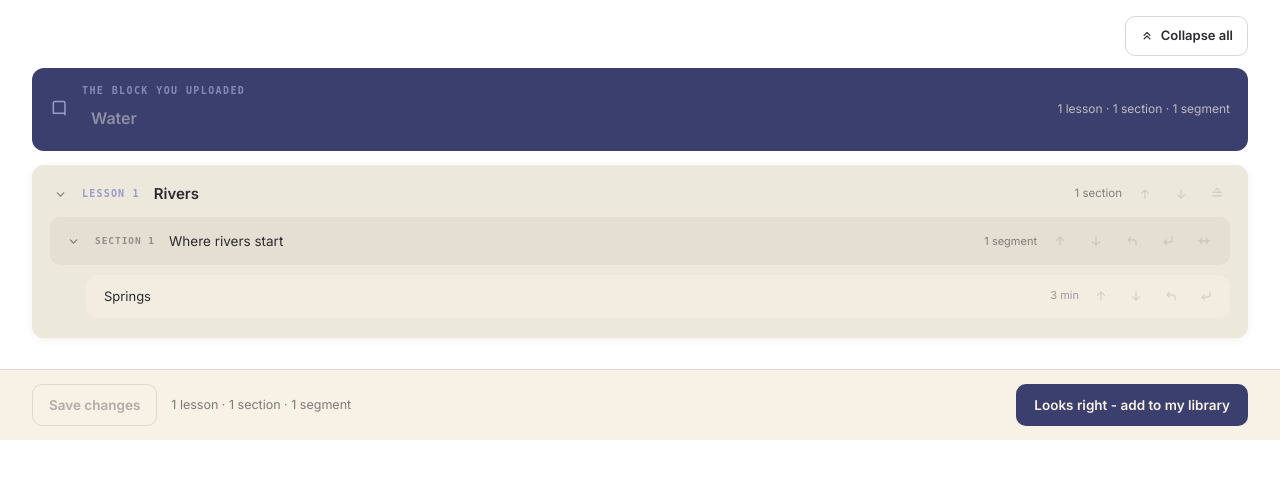
Test: undo › says so when it could not undo, and leaves the structure as it was
The width and height of the screenshot is (1280, 504).
Step 1. Replace the text in the field named "Lesson 1 title" with "Streams" → coordinates (607, 194), box [150,180,1064,207]
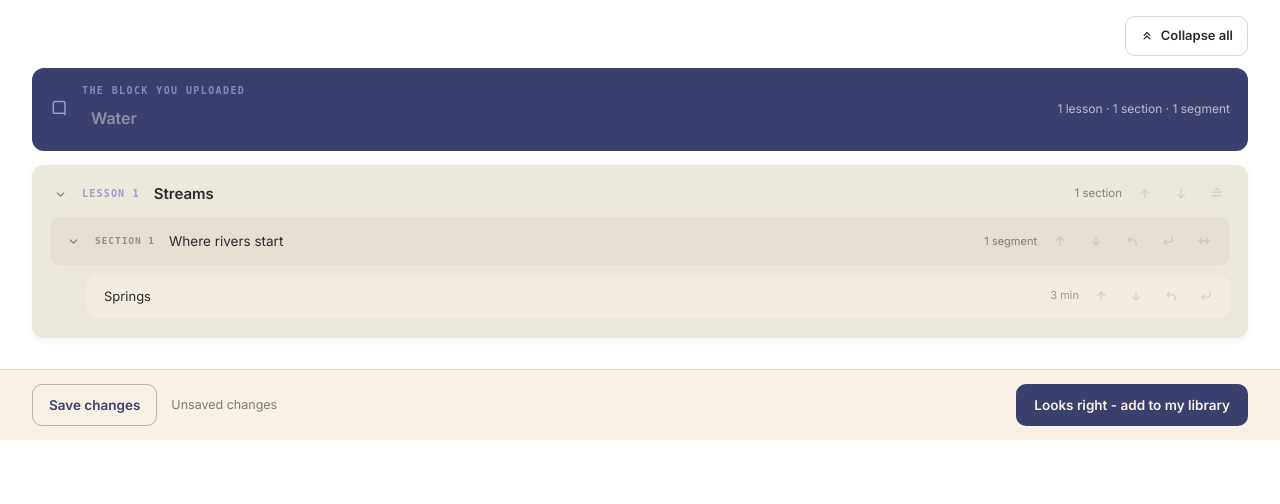
Step 2. Click the button "Save changes" → coordinates (95, 405), box [32,384,157,426]
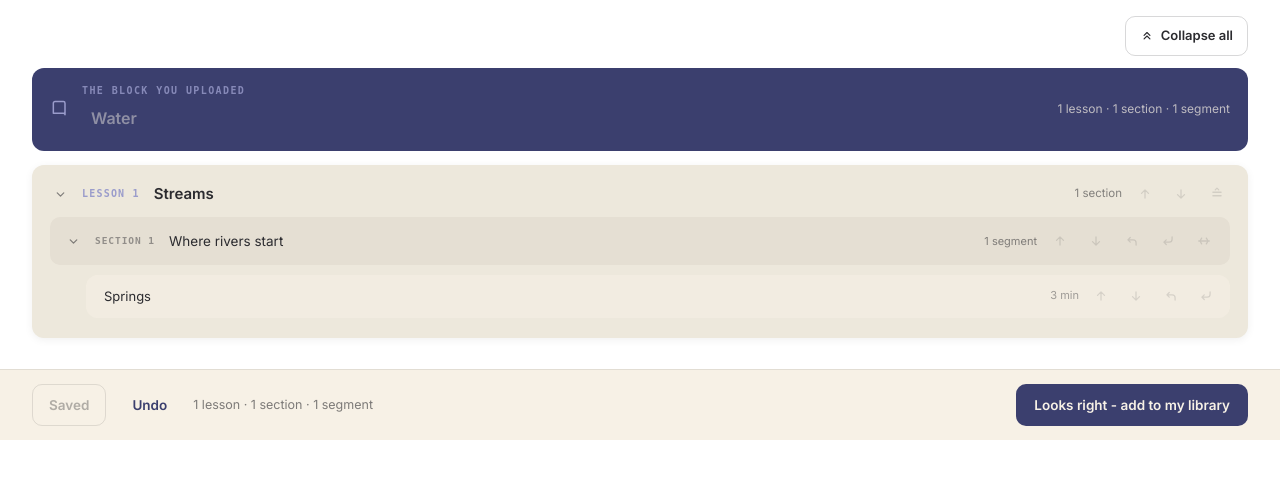
Result: the button "Saved" is shown at [32,384,106,426]
Step 3. Click the button "Undo" → coordinates (150, 405), box [120,384,179,426]
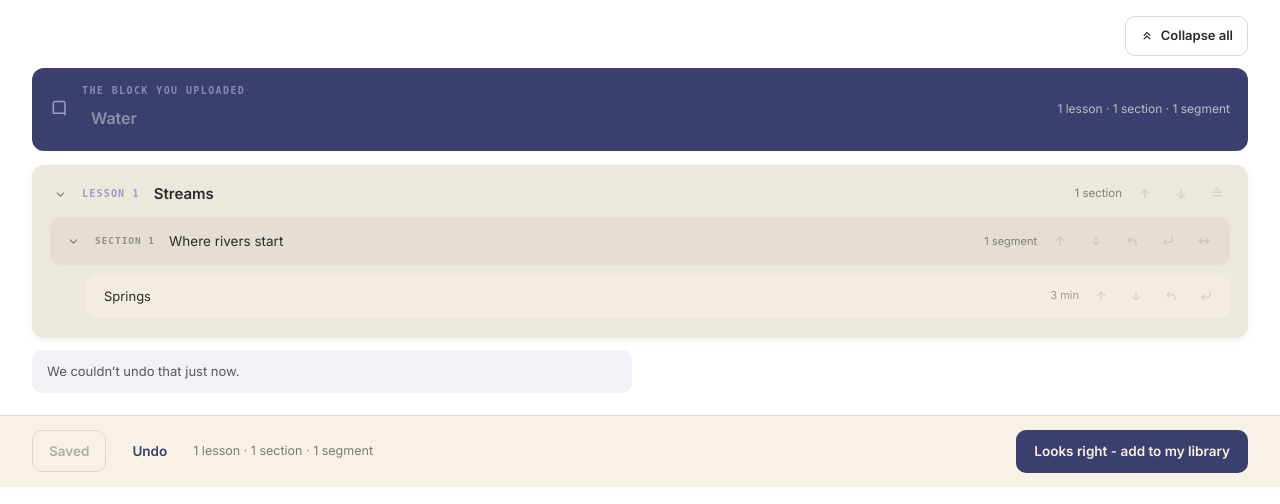
Result: the text "We couldn’t undo that just now." is shown at [32,350,632,393]
